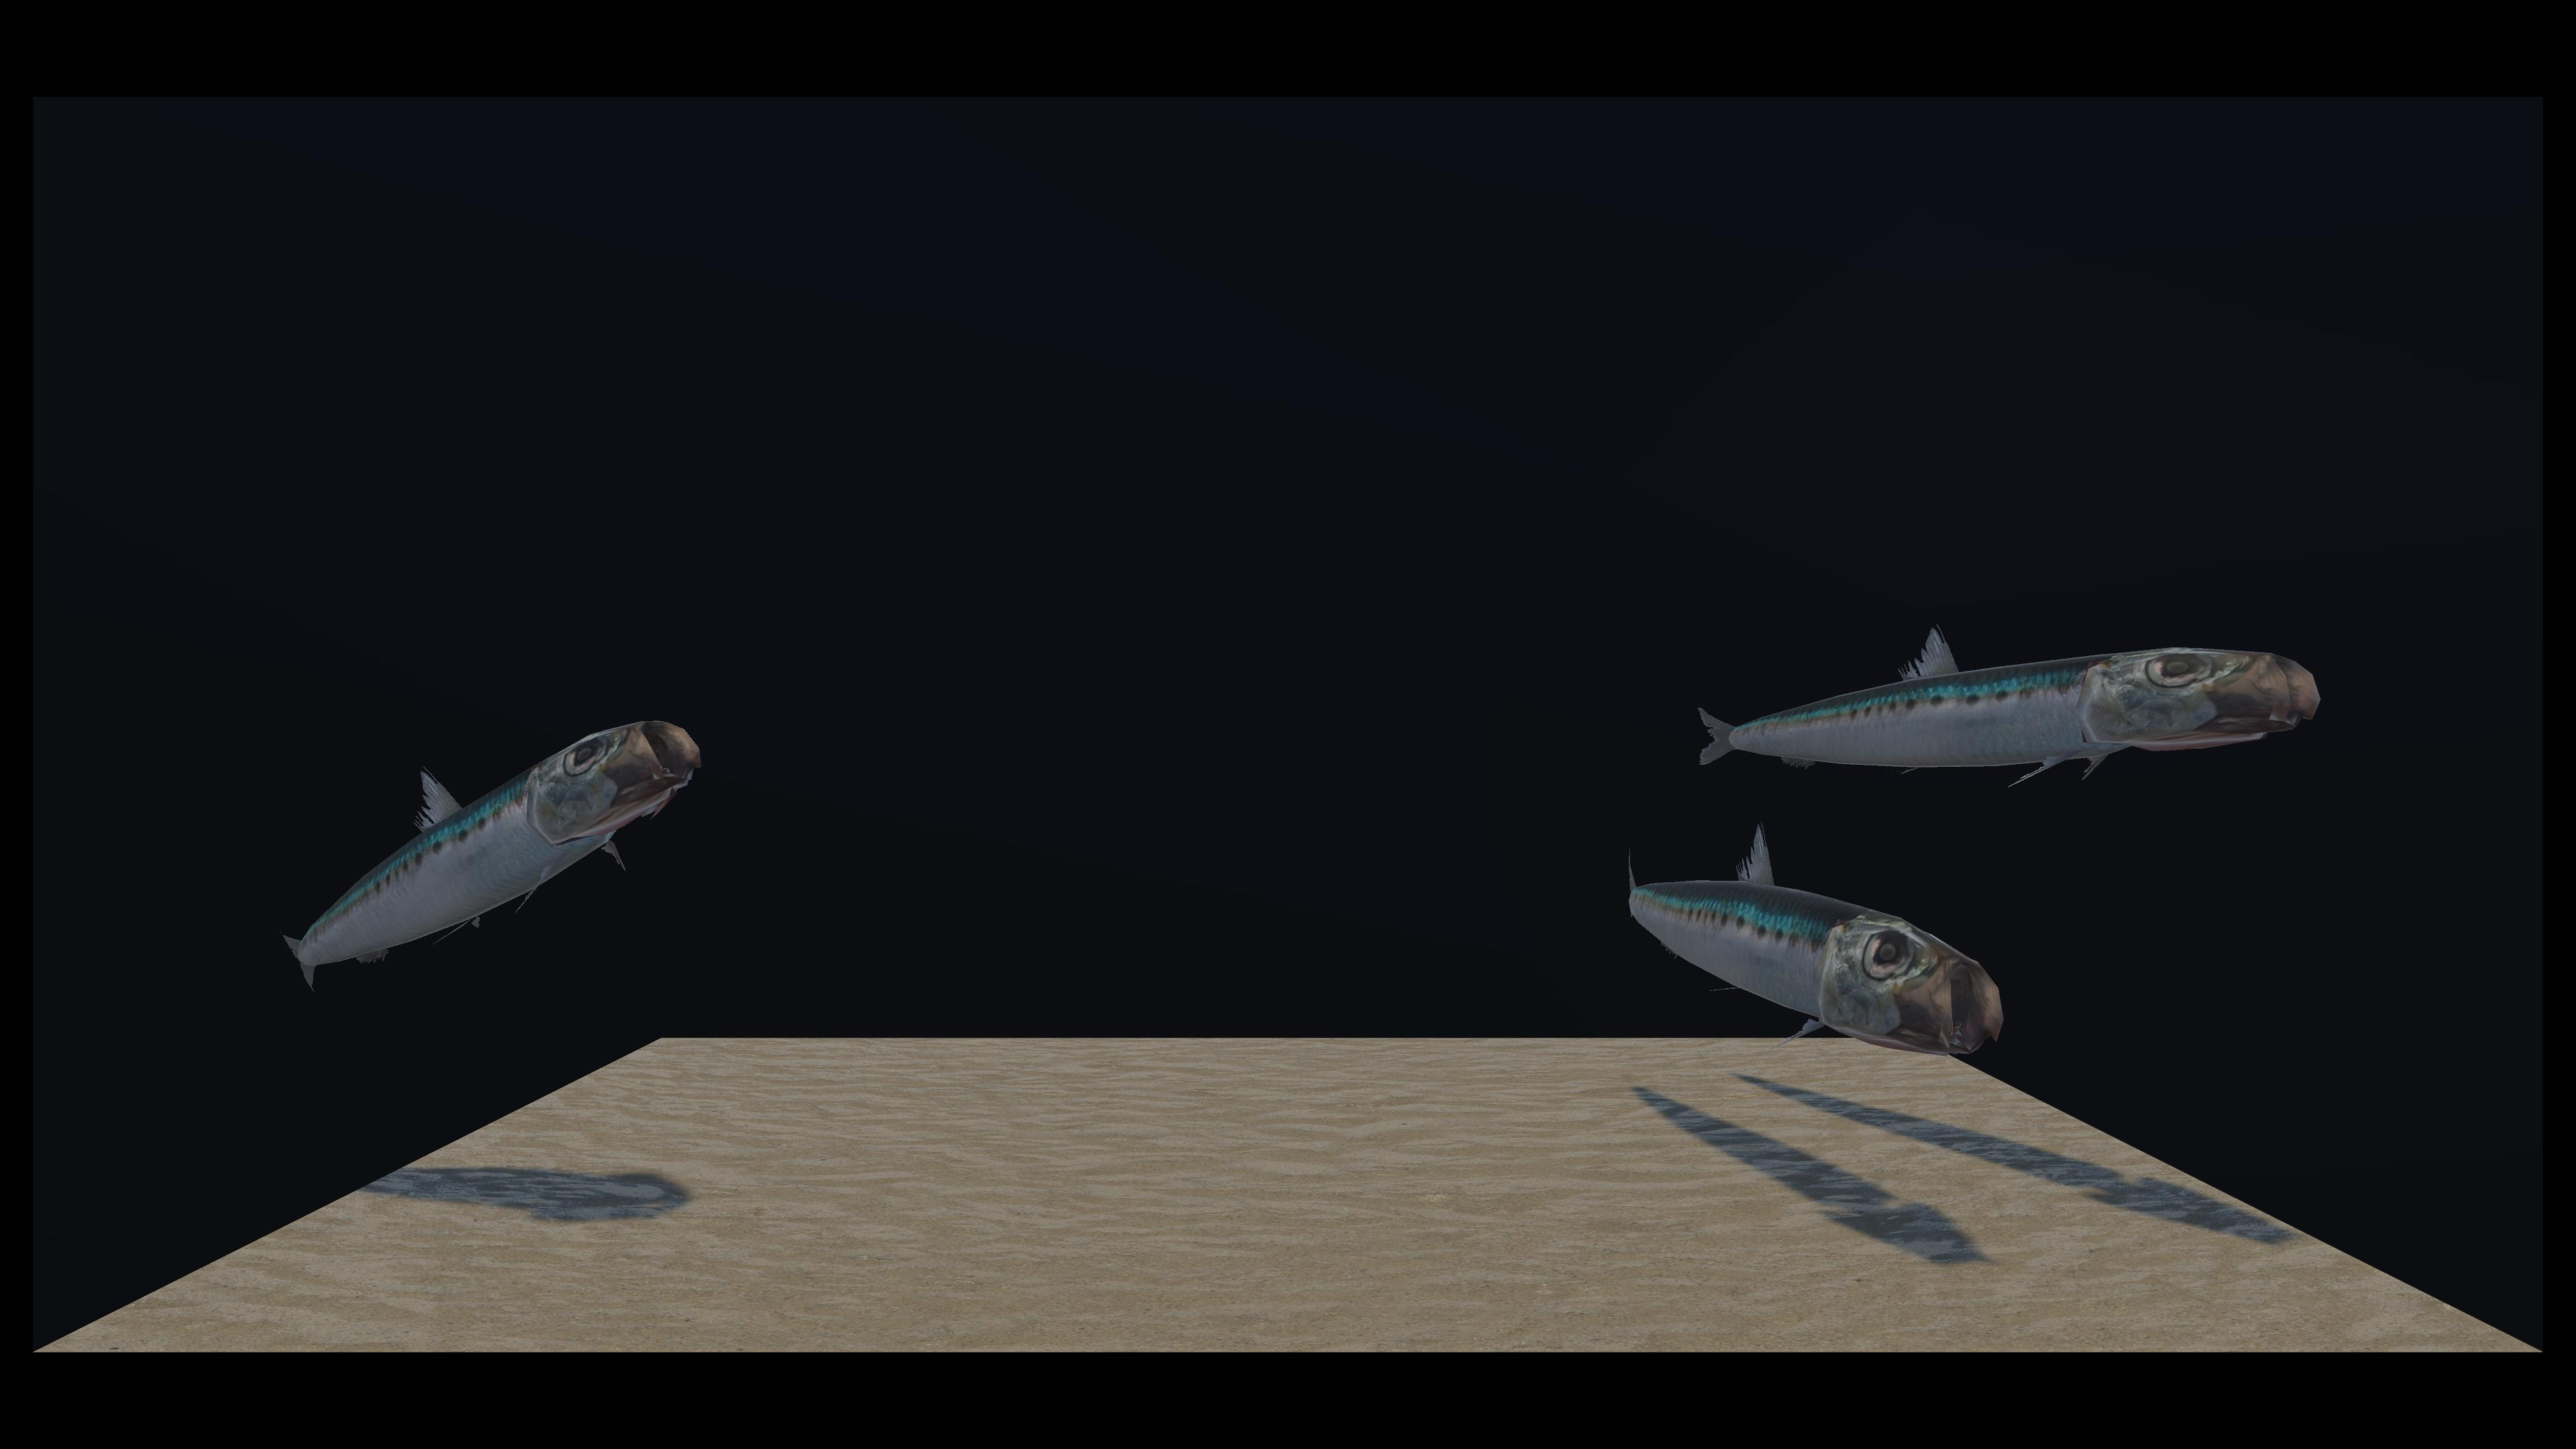Sardine_Front: (598, 361, 1957, 1054), (892, 357, 2268, 796), (269, 589, 846, 998)
